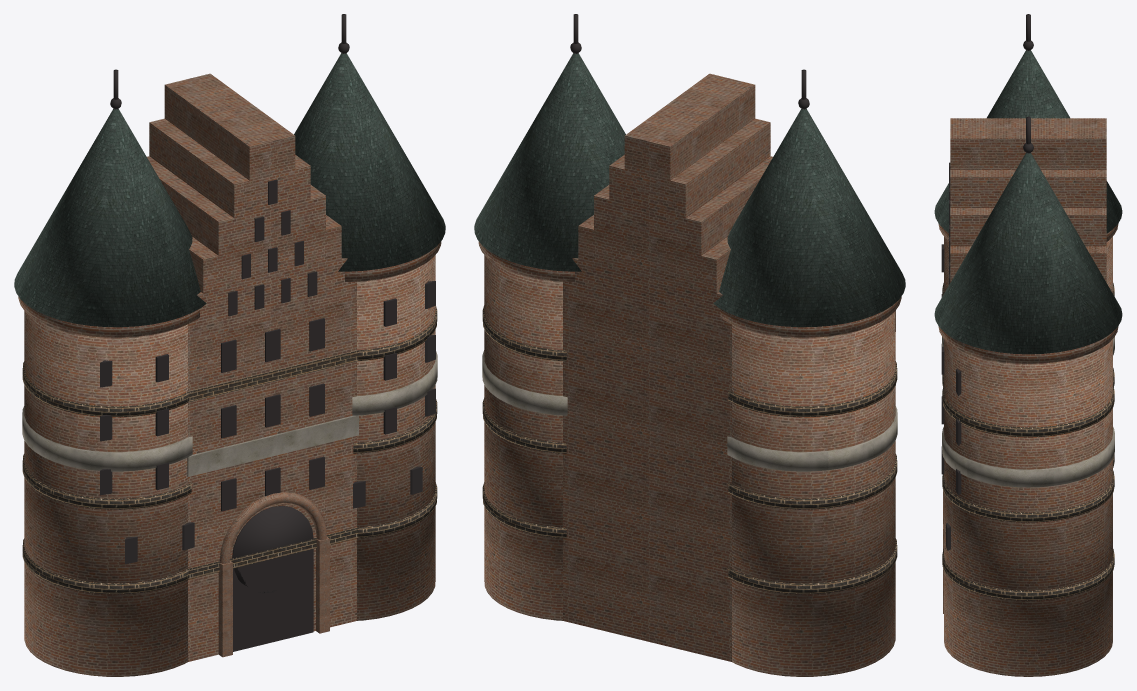
The model's file is holstentor.glb.
3 views of the same model, side by side, from view 1: azimuth 30°, elevation 25°; view 2: azimuth 150°, elevation 25°; view 3: azimuth 270°, elevation 25° (orthographic). The views are drawn at different scales.
Parts seen in each view (by area): view 1: holstentor; view 2: holstentor; view 3: holstentor.
Boxes of the visible parts, <box> form: holstentor: <box>14,14,445,676</box>; holstentor: <box>474,14,905,676</box>; holstentor: <box>934,14,1122,676</box>.
Bounding box in the file's own units: 5.5 × 7.38 × 2.4.
Materials: 5 (4 with a texture image).
